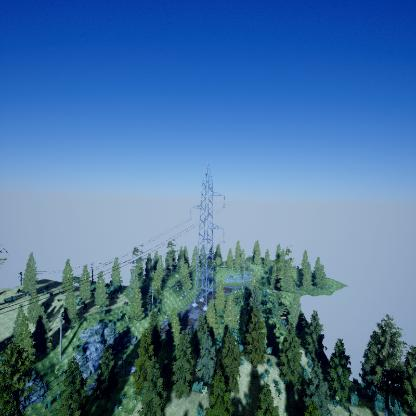tower: (187, 161, 228, 311)
